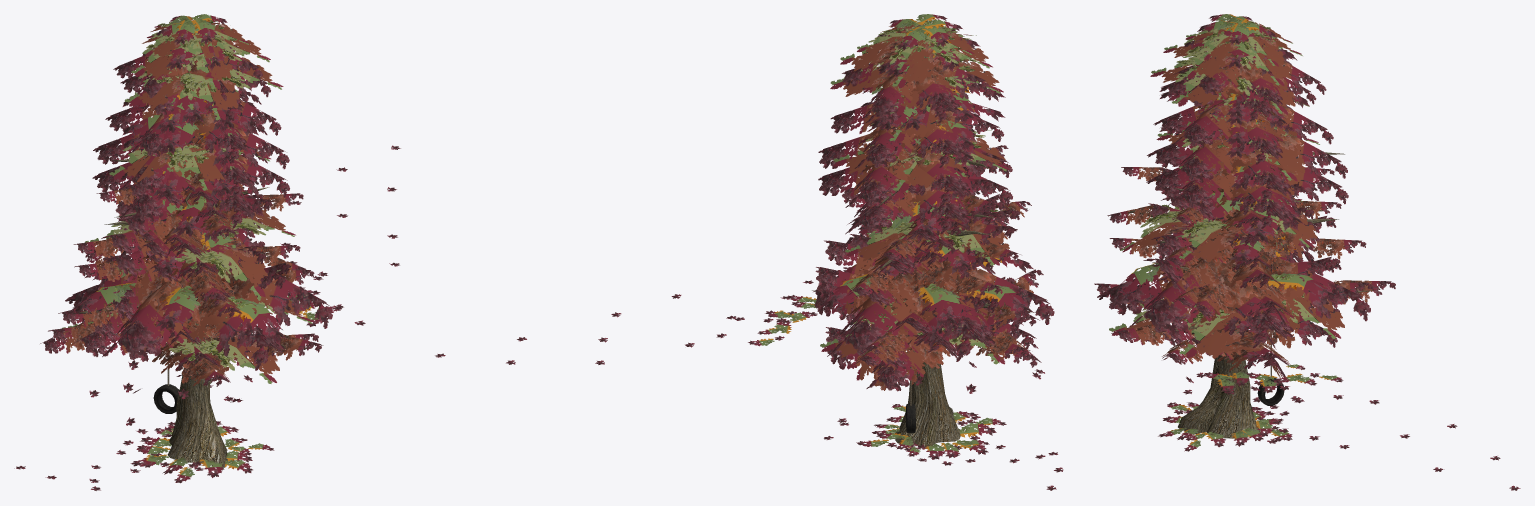
Rendered from arbolmuygrande.fbx.
3 renders of one model, left to right at view 1: azimuth 30°, elevation 25°; view 2: azimuth 150°, elevation 25°; view 3: azimuth 270°, elevation 25°, orthographic. The views are drawn at different scales.
Visible parts, largest first — view 1: Tree; view 2: Tree; view 3: Tree.
Boxes of the visible parts, x1,y1,x2,y2 form: Tree: (14, 14, 400, 490); Tree: (435, 14, 1063, 490); Tree: (1094, 14, 1520, 490).
Size of the model in its own units: 2245 by 1802 by 1705.
